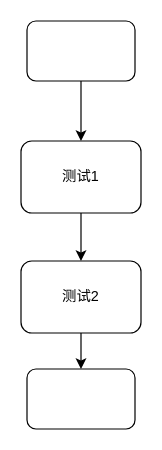
Some shapes in this 162 by 450 pixel diagram are drawn without their labels. The centre of each missing label's shape, as x and y in pixels:
"开始" belongs at [80,50].
"结束" belongs at [80,398].
